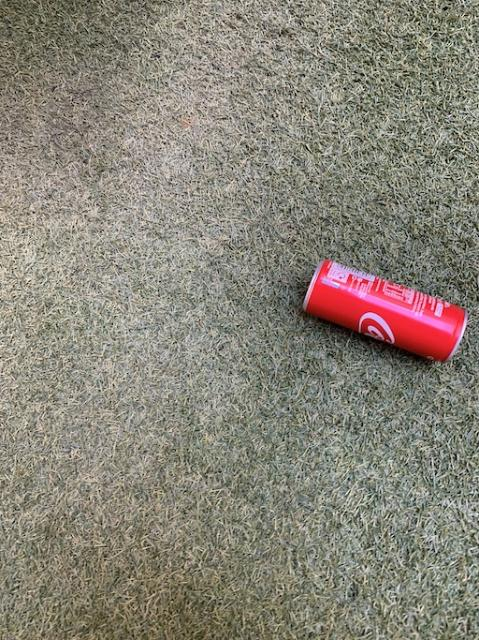metal: (303, 259, 466, 360)
